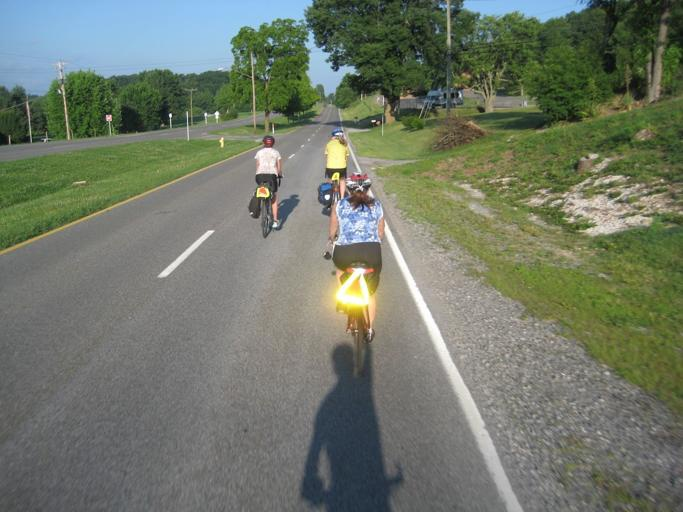non-vehicle: (322, 233, 377, 376), (254, 172, 283, 238), (330, 172, 340, 204)
